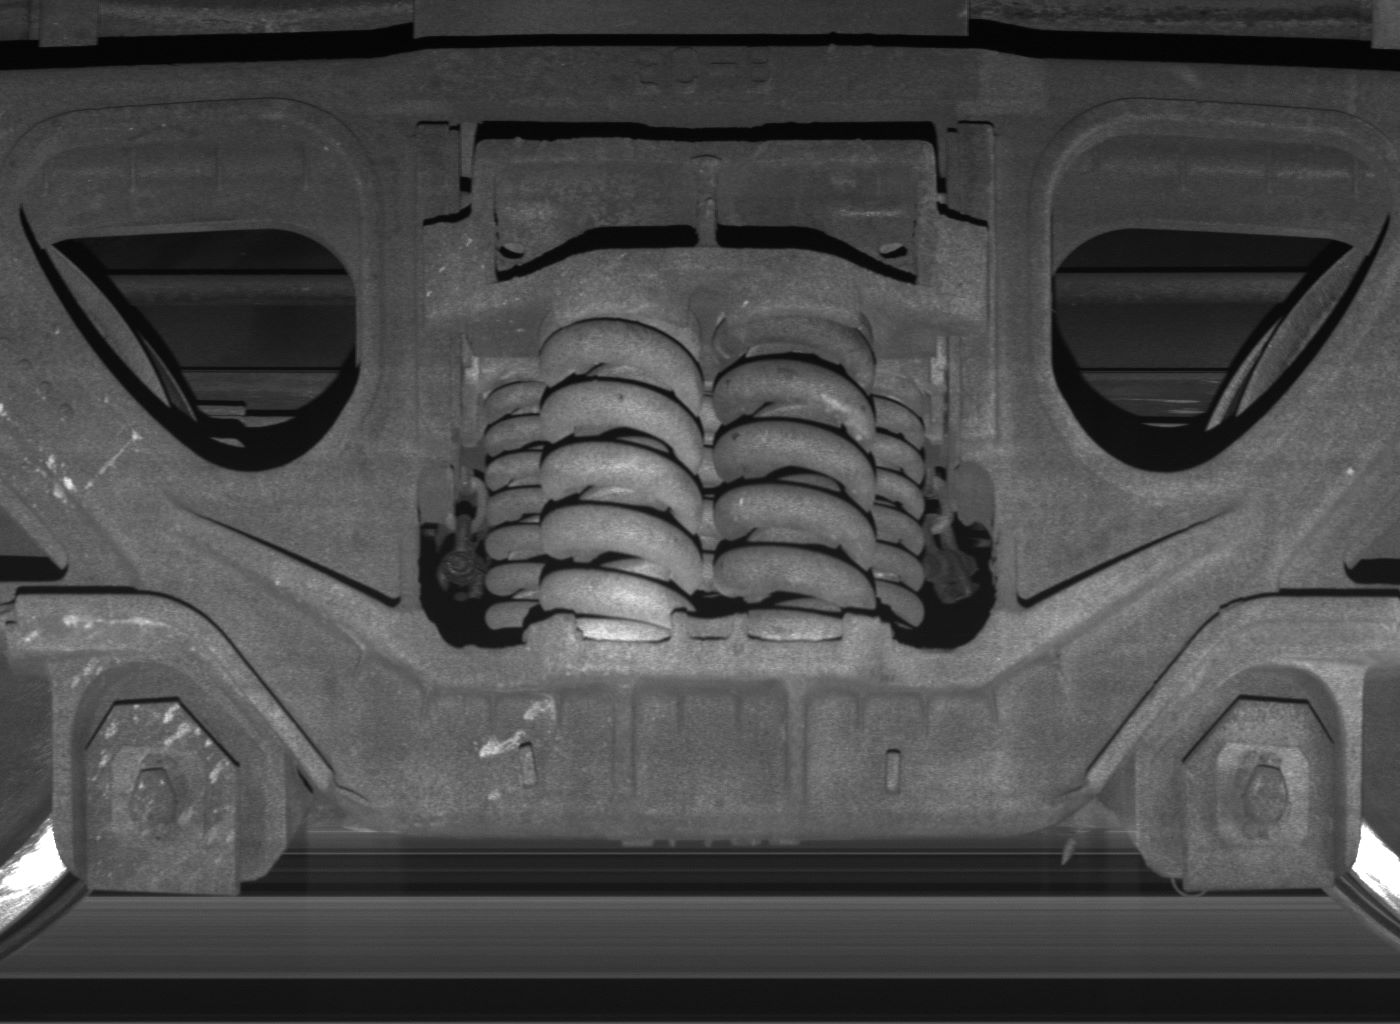normal: (51, 663, 283, 896), (1137, 665, 1365, 890)
